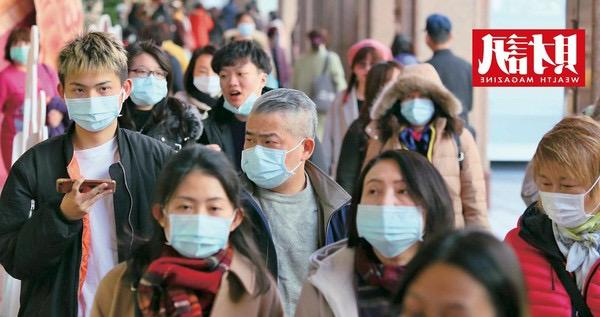mask_weared_incorrect: (220, 66, 260, 111)
with_mask: (356, 175, 425, 260), (163, 192, 233, 259), (240, 127, 297, 191), (64, 78, 123, 133), (540, 170, 591, 229), (129, 61, 167, 105), (398, 90, 435, 124), (192, 63, 221, 98), (8, 37, 31, 67)
without_mask: (352, 57, 379, 81)
